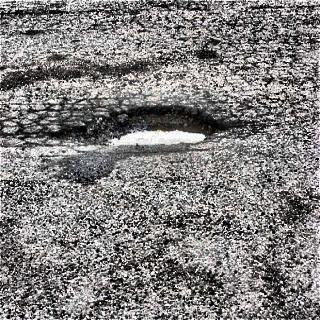alligator-crack: (3, 100, 92, 146)
pothole: (57, 100, 224, 152)
